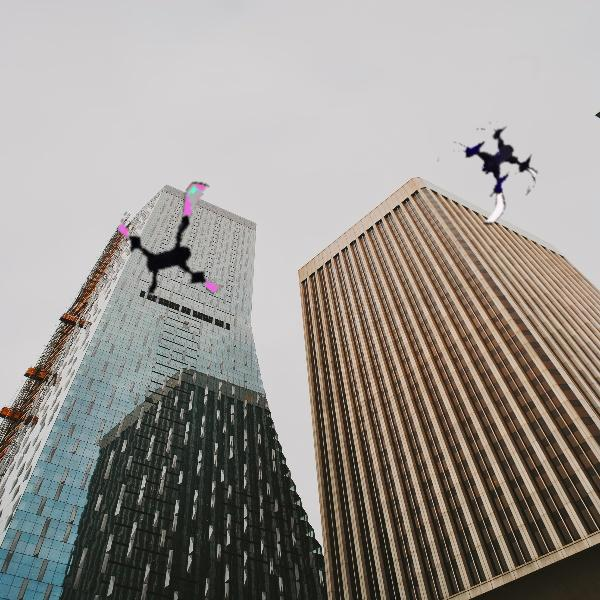drone: (111, 175, 249, 313), (437, 117, 542, 222)
